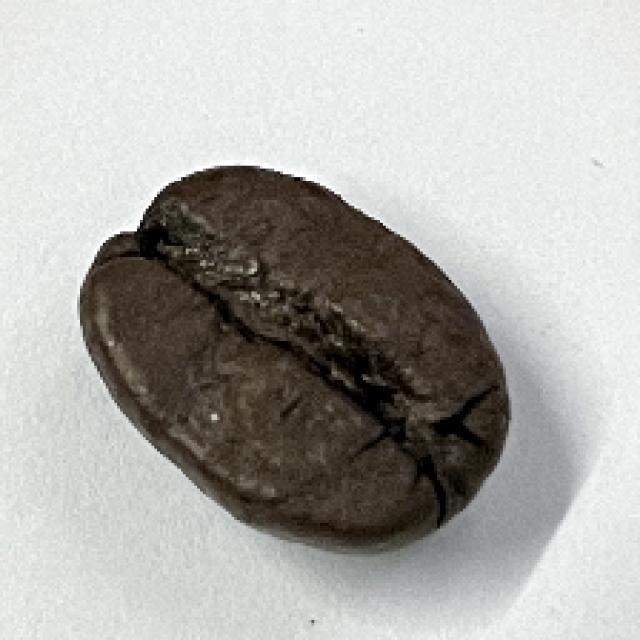bean: (77, 164, 508, 555)
